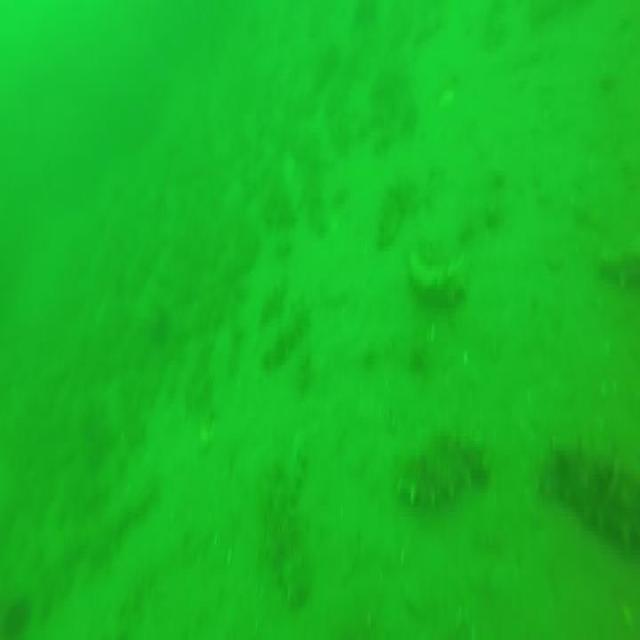holothurian: (543, 438, 640, 550), (399, 433, 492, 520)
